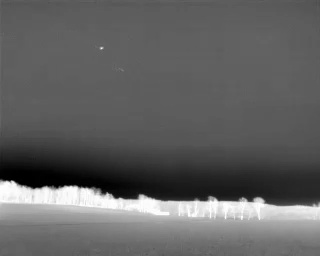BIRD: (97, 43, 106, 53)
